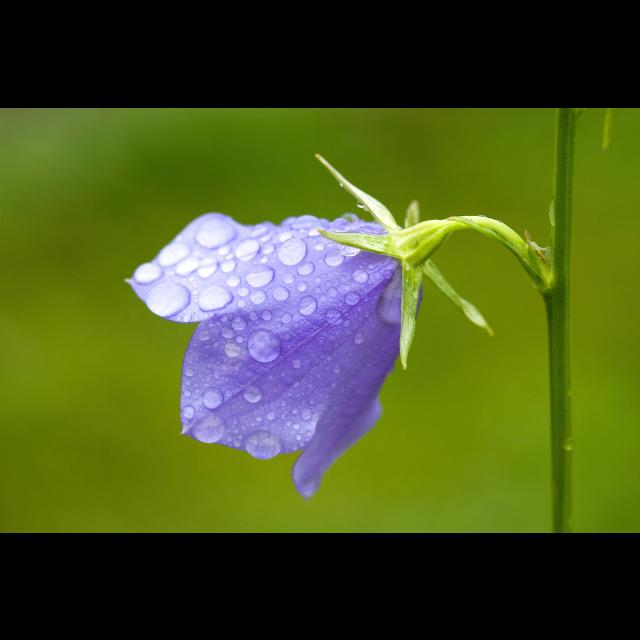Flower: (130, 157, 530, 488)
